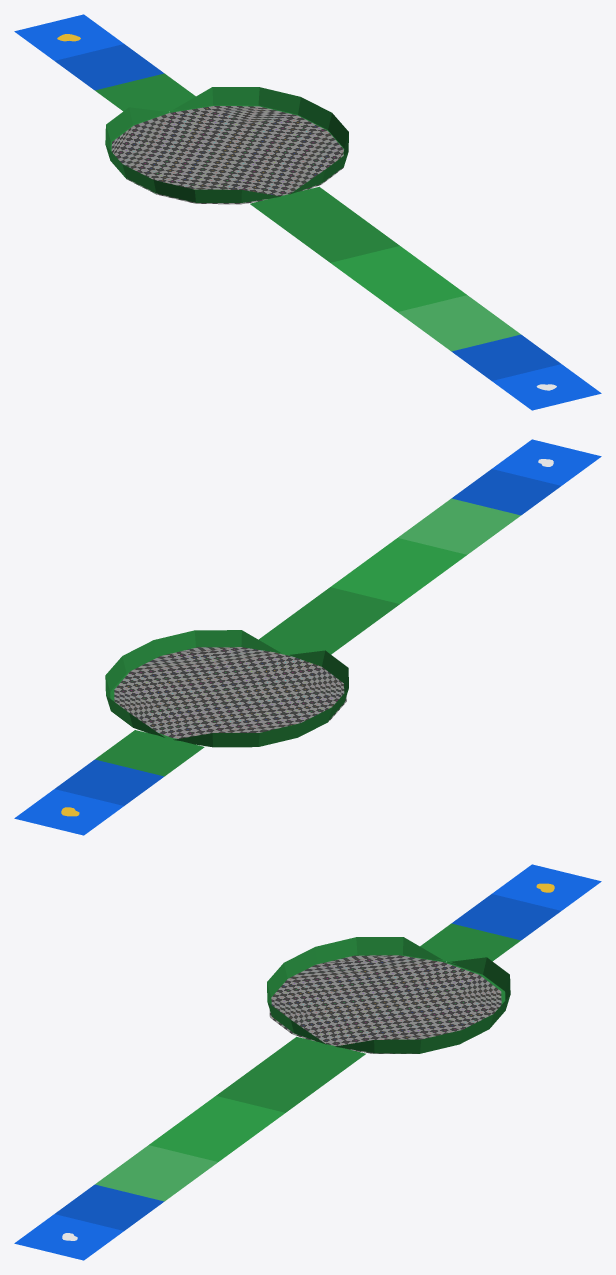
The model's file is game-area-size_v2.glb.
3 renders of one model, top to bottom at view 1: azimuth 30°, elevation 25°; view 2: azimuth 150°, elevation 25°; view 3: azimuth 330°, elevation 25°, orthographic.
Visible parts, largest first — view 1: zone.explorable.002, zone.explorable.003, SOL.010, SOL.009, SOL.008, SOL.007, SOL.013, SOL.006, SOL.012, SOL.011; view 2: zone.explorable.002, zone.explorable.003, SOL.010, SOL.009, SOL.008, SOL.007, SOL.013, SOL.011, SOL.006, SOL.012; view 3: zone.explorable.002, zone.explorable.003, SOL.010, SOL.009, SOL.008, SOL.007, SOL.013, SOL.006, SOL.012, SOL.011.
Boxes of the visible parts, x1,y1,x2,y2 form: zone.explorable.002: (111,106,343,204); zone.explorable.003: (105,87,348,202); SOL.010: (250,186,399,262); SOL.009: (330,246,466,311); SOL.008: (398,295,520,351); SOL.007: (451,334,560,380); SOL.013: (55,44,164,90); SOL.006: (492,364,601,410); SOL.012: (14,14,123,60); SOL.011: (95,73,195,113); zone.explorable.002: (114,647,346,738); zone.explorable.003: (105,630,348,747); SOL.010: (258,587,399,657); SOL.009: (330,538,466,603); SOL.008: (398,498,520,554); SOL.007: (451,469,560,515); SOL.013: (55,759,164,805); SOL.011: (95,730,204,776); SOL.006: (492,439,601,485); SOL.012: (14,789,123,835); zone.explorable.002: (269,955,501,1053); zone.explorable.003: (267,937,510,1053); SOL.010: (216,1036,365,1112); SOL.009: (149,1096,285,1161); SOL.008: (95,1145,217,1201); SOL.007: (55,1184,164,1230); SOL.013: (451,894,560,940); SOL.006: (14,1214,123,1260); SOL.012: (492,864,601,910); SOL.011: (420,923,520,963).
Size of the model in its own units: 180 by 13.4 by 770.
2 materials, 2 textured.
